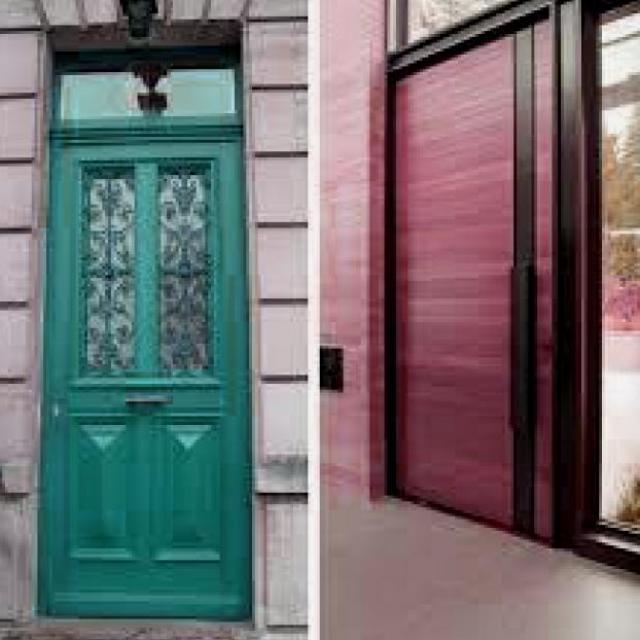door: (36, 122, 253, 619), (379, 3, 569, 544)
